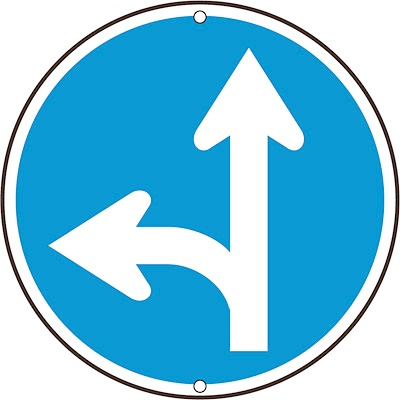Direction_sign: (2, 5, 395, 398)
